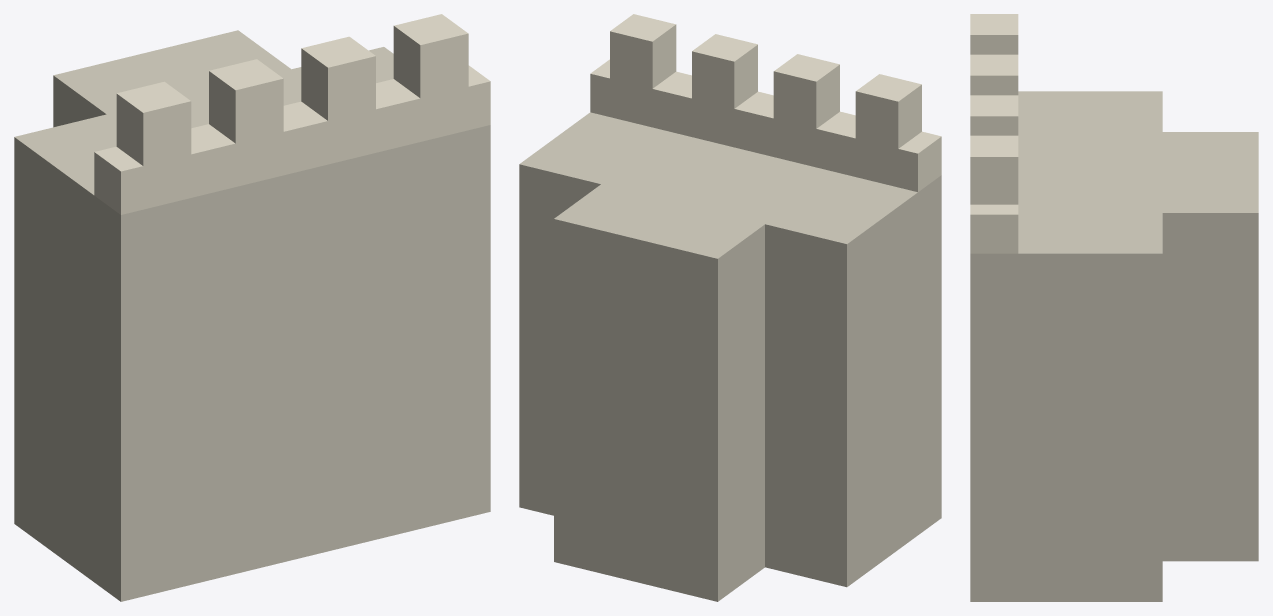
File: curtain-tee.glb
The picture shows the model from 3 angles, left to right: view 1: azimuth 30°, elevation 25°; view 2: azimuth 150°, elevation 25°; view 3: azimuth 270°, elevation 25°; orthographic projection. The views are drawn at different scales.
Parts seen in each view (by area): view 1: curtain-tee; view 2: curtain-tee; view 3: curtain-tee.
Boxes of the visible parts, <box> form: curtain-tee: <box>14,14,490,601</box>; curtain-tee: <box>519,14,941,601</box>; curtain-tee: <box>970,14,1258,601</box>.
Size of the model in its own units: 4 by 5 by 3.
